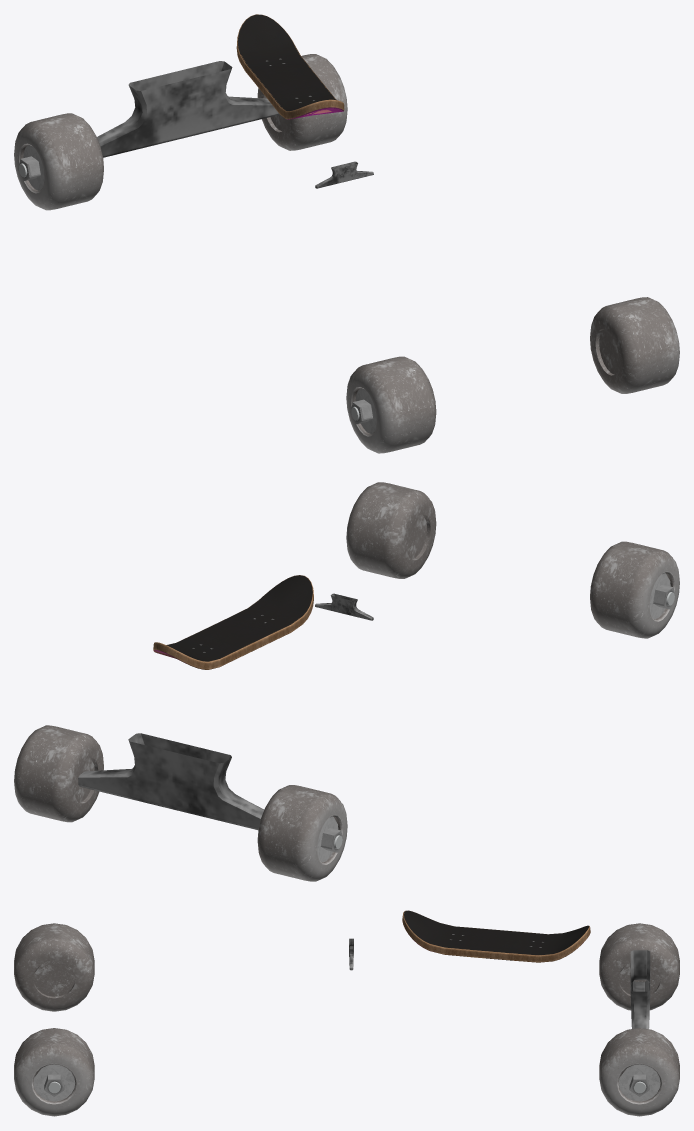
The model's file is skate-936e79.glb.
The picture shows the model from 3 angles, top to bottom: view 1: azimuth 30°, elevation 25°; view 2: azimuth 150°, elevation 25°; view 3: azimuth 270°, elevation 25°; orthographic projection. The views are drawn at different scales.
Parts seen in each view (by area): view 1: PropMesh; view 2: PropMesh; view 3: PropMesh.
Part boxes in pixels (x1,y1,x2,y2): PropMesh: (14,14,679,453); PropMesh: (14,482,679,881); PropMesh: (14,910,679,1116).
Size of the model in its own units: 4.32 by 2.2 by 8.93.
Materials: 1 (1 with a texture image).
